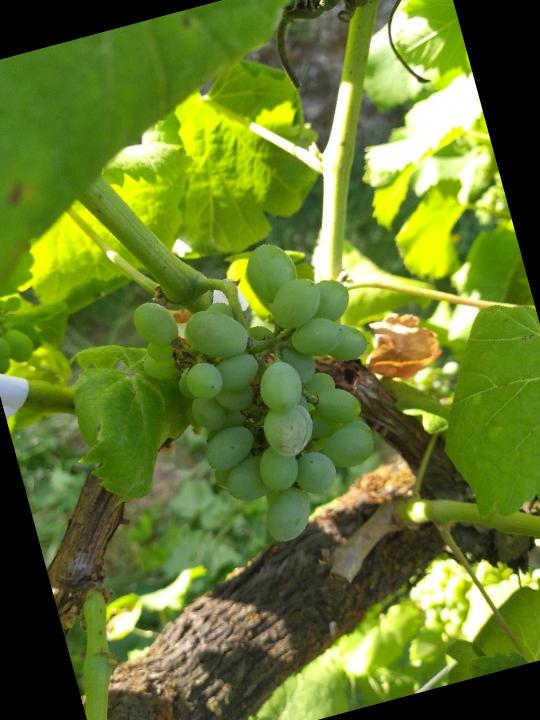grape: (113, 221, 422, 574)
